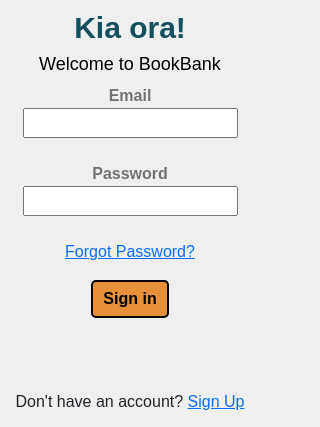
it: Login › should disable the sign in button after form submission
Note: Simulate user typing into input fields
Type "test@example.com" into the field labelled "Email" at (130, 123), box top-left (22, 108), bottom-right (238, 138)
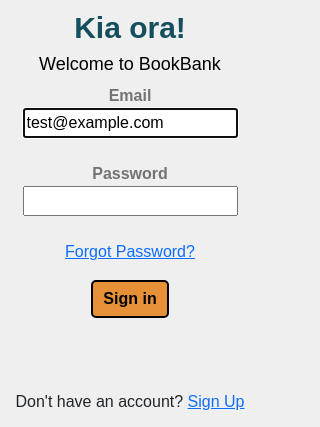
Type "password" into the password field labelled "Password" at (130, 201), box top-left (22, 186), bottom-right (238, 216)
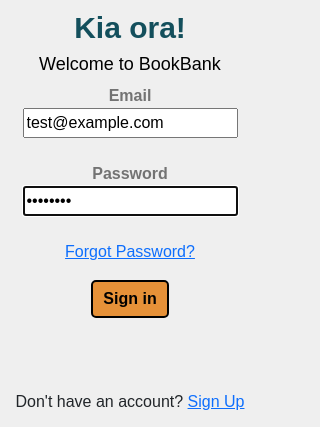
Note: Submit the form by clicking the sign-in button
Click the button "Sign in" at (130, 299), box top-left (91, 280), bottom-right (169, 318)
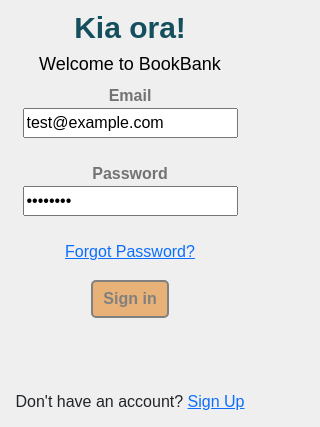
Check: the button "Sign in" is disabled, box top-left (91, 280), bottom-right (169, 318)
